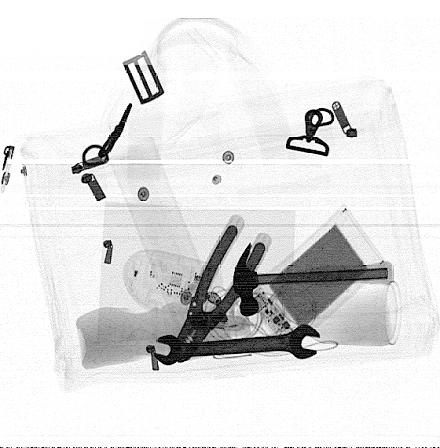Hammer: (232, 242, 392, 317)
Pliers: (171, 222, 267, 363)
Powerbank: (241, 205, 387, 354)
Wrench: (152, 323, 321, 366)
